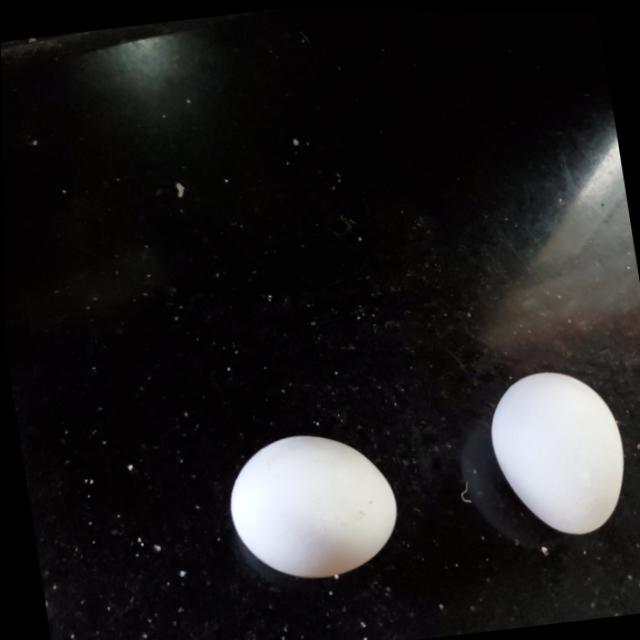egg: (219, 422, 407, 592), (480, 352, 638, 545)
